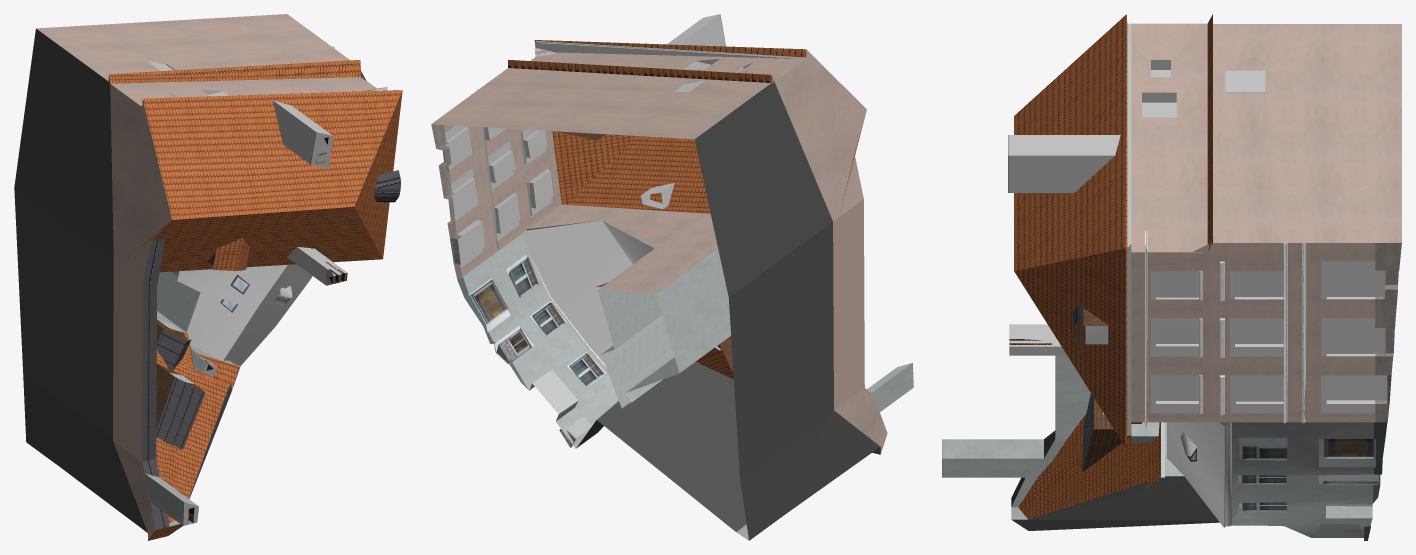
The model's file is Nunne-1-origo.obj.
3 renders of one model, left to right at view 1: azimuth 30°, elevation 25°; view 2: azimuth 150°, elevation 25°; view 3: azimuth 270°, elevation 25°, orthographic. The views are drawn at different scales.
Visible parts, largest first — view 1: N1_Building01; view 2: N1_Building01; view 3: N1_Building01.
Part boxes in pixels (left/top/right/bottom): N1_Building01: left=14, top=14, right=402, bottom=540; N1_Building01: left=431, top=14, right=913, bottom=540; N1_Building01: left=942, top=14, right=1401, bottom=540.
Bounding box in the file's own units: 19.56 × 26 × 20.65.
